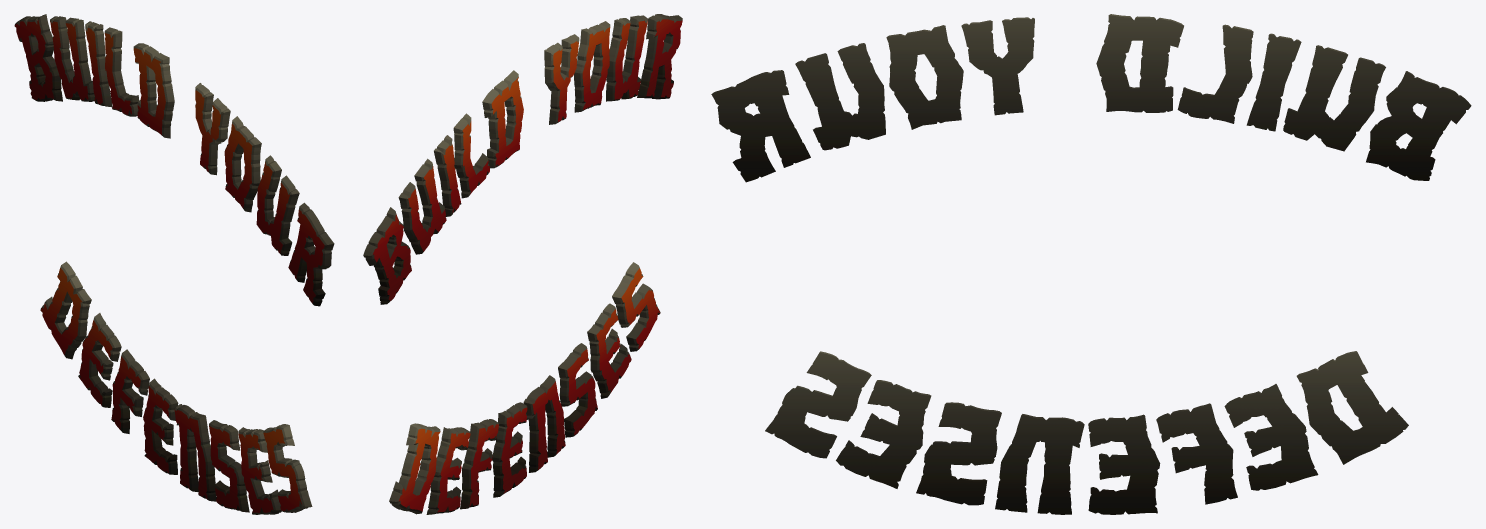
Rendered from build_mdl.FBX.
The picture shows the model from 3 angles, left to right: view 1: azimuth 30°, elevation 25°; view 2: azimuth 150°, elevation 25°; view 3: azimuth 270°, elevation 25°; orthographic projection. The views are drawn at different scales.
Visible parts, largest first — view 1: begin_mdl, battle_mdl; view 2: begin_mdl, battle_mdl; view 3: begin_mdl, battle_mdl.
Part boxes in pixels (bbox=[...]): begin_mdl: bbox=[14, 14, 334, 306]; battle_mdl: bbox=[40, 261, 312, 514]; begin_mdl: bbox=[363, 14, 682, 304]; battle_mdl: bbox=[389, 262, 660, 514]; begin_mdl: bbox=[711, 14, 1471, 182]; battle_mdl: bbox=[765, 351, 1408, 514].
Bounding box in the file's own units: 95.02 × 5275 × 7273.
